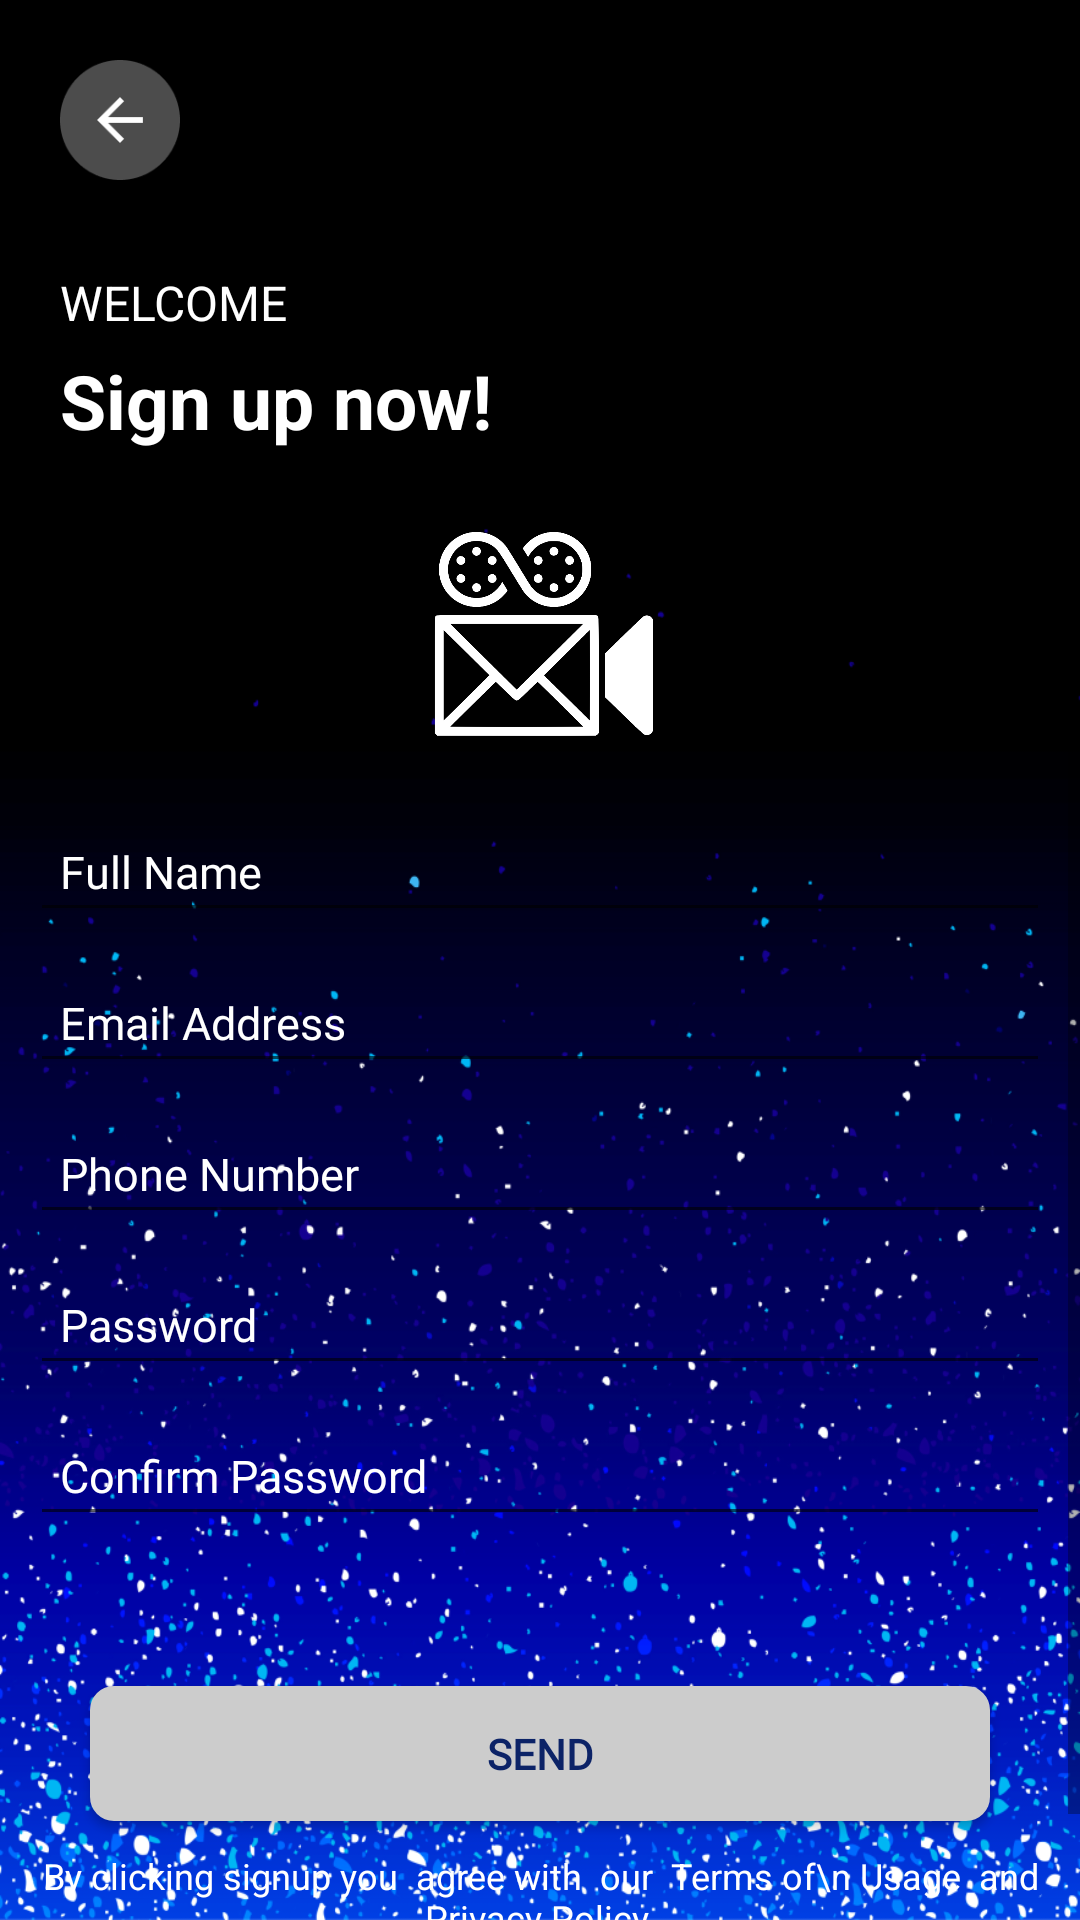

Screen size 1080x1920. Icon name, then its center in pixels as (x=x, y=y):
back: (x=120, y=120)
video: (x=545, y=632)
